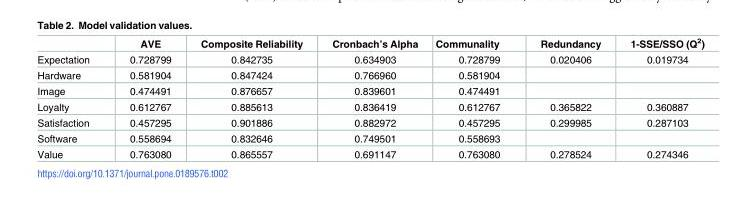table: (36, 37, 703, 159)
table column: (185, 37, 316, 159), (316, 37, 425, 159), (519, 37, 614, 159), (425, 37, 519, 159), (614, 37, 703, 159), (108, 37, 185, 159), (36, 37, 108, 159)
table column header: (36, 37, 703, 51)
table row: (36, 51, 703, 67), (36, 67, 703, 83), (36, 83, 703, 99), (36, 99, 703, 115), (36, 130, 703, 146), (36, 115, 703, 130), (36, 37, 703, 51), (36, 146, 703, 159)
